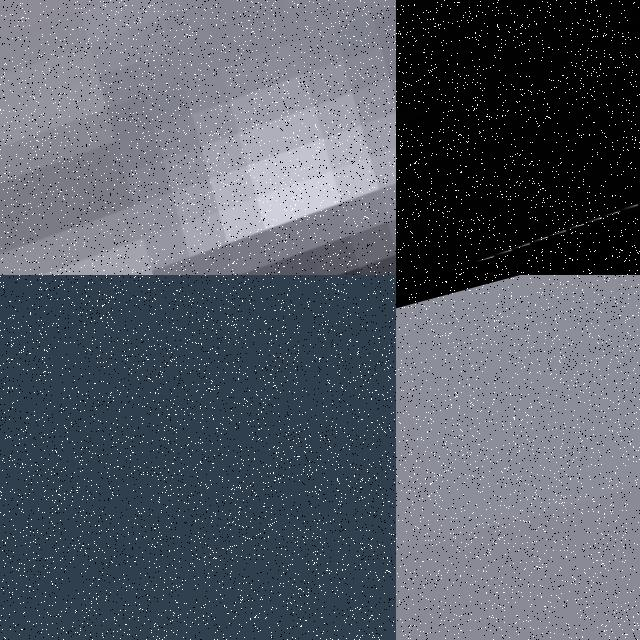drone: (0, 275, 396, 640), (0, 0, 396, 275), (396, 0, 640, 275)
